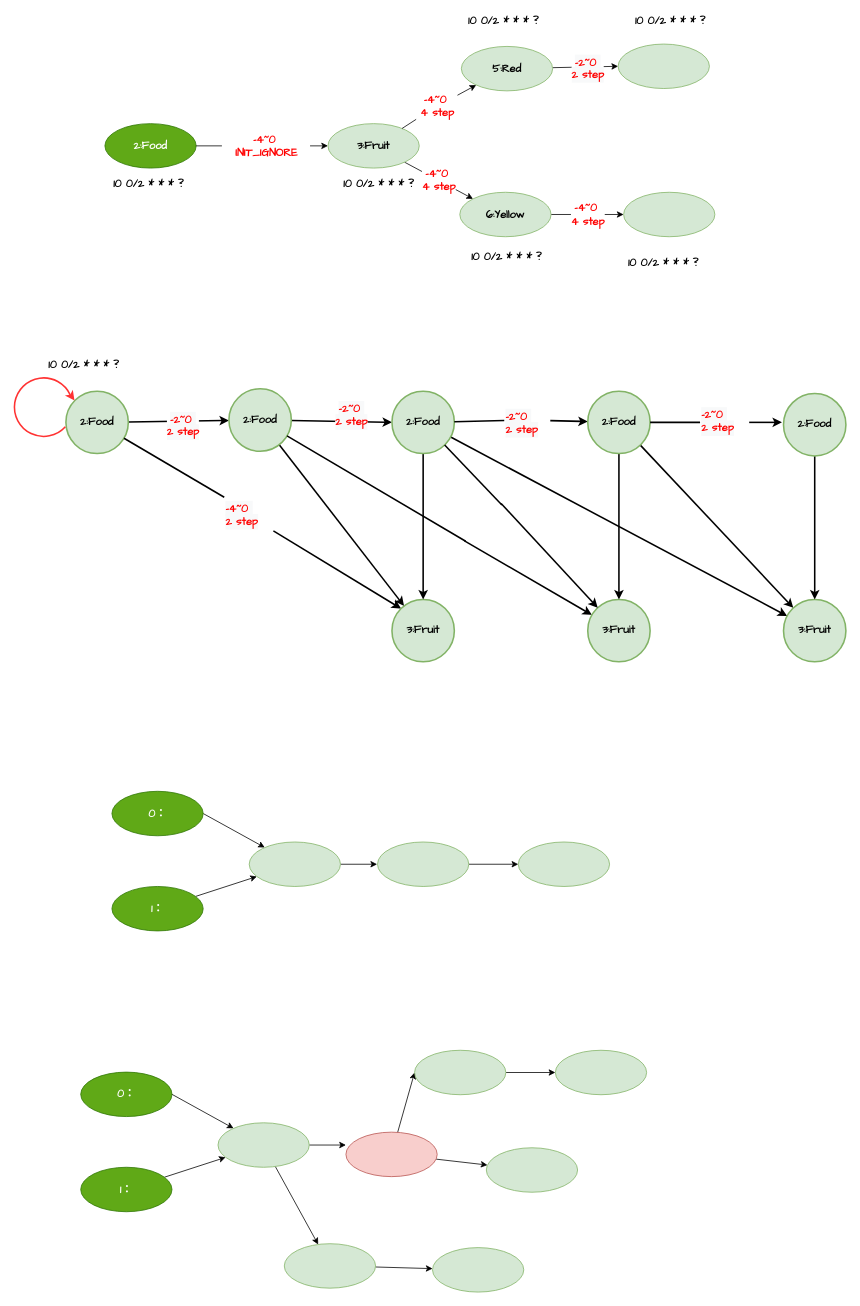
Some shapes in this 860 by 1306 pixel diagram are drawn without their labels. The box of each missing label's shape, as (x1, y1, x2, y2) in pixels:
4:Cherry: (617, 43, 709, 89)
7:Banana: (623, 191, 715, 237)
cur: (345, 1131, 437, 1177)
